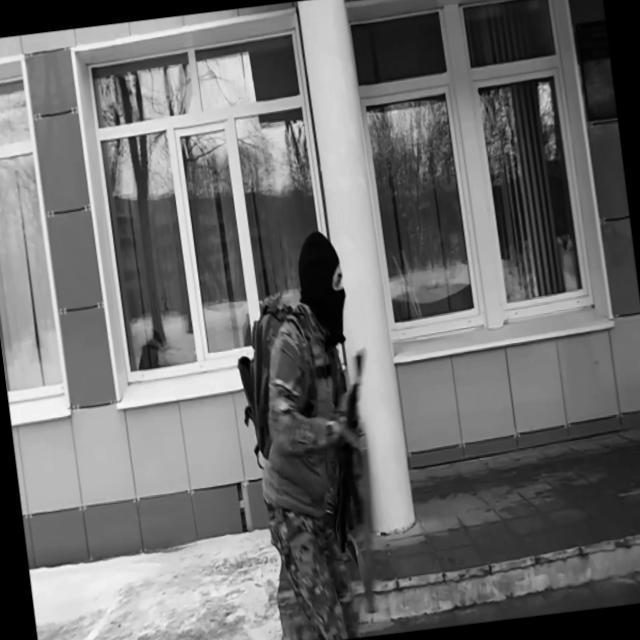gun: (312, 343, 392, 557)
person with a gun: (220, 223, 402, 640)
